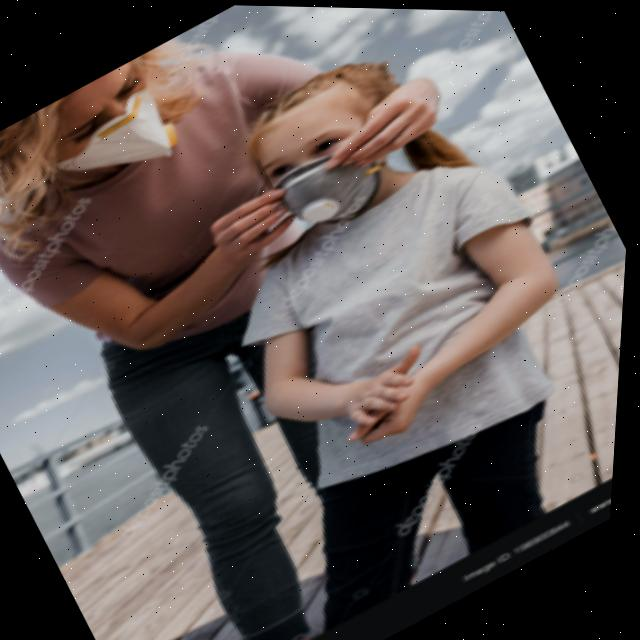Mask: (12, 62, 211, 223), (258, 114, 420, 248)
